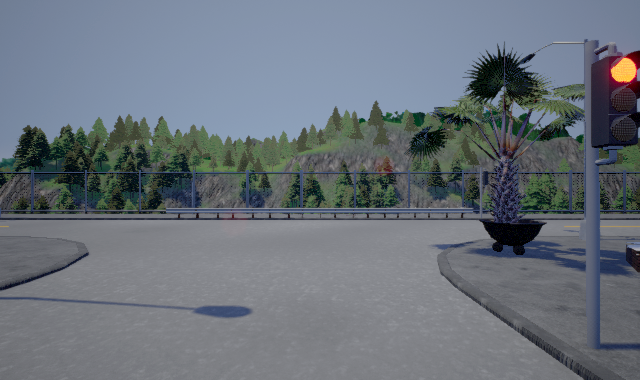traffic_light: (591, 42, 640, 166)
